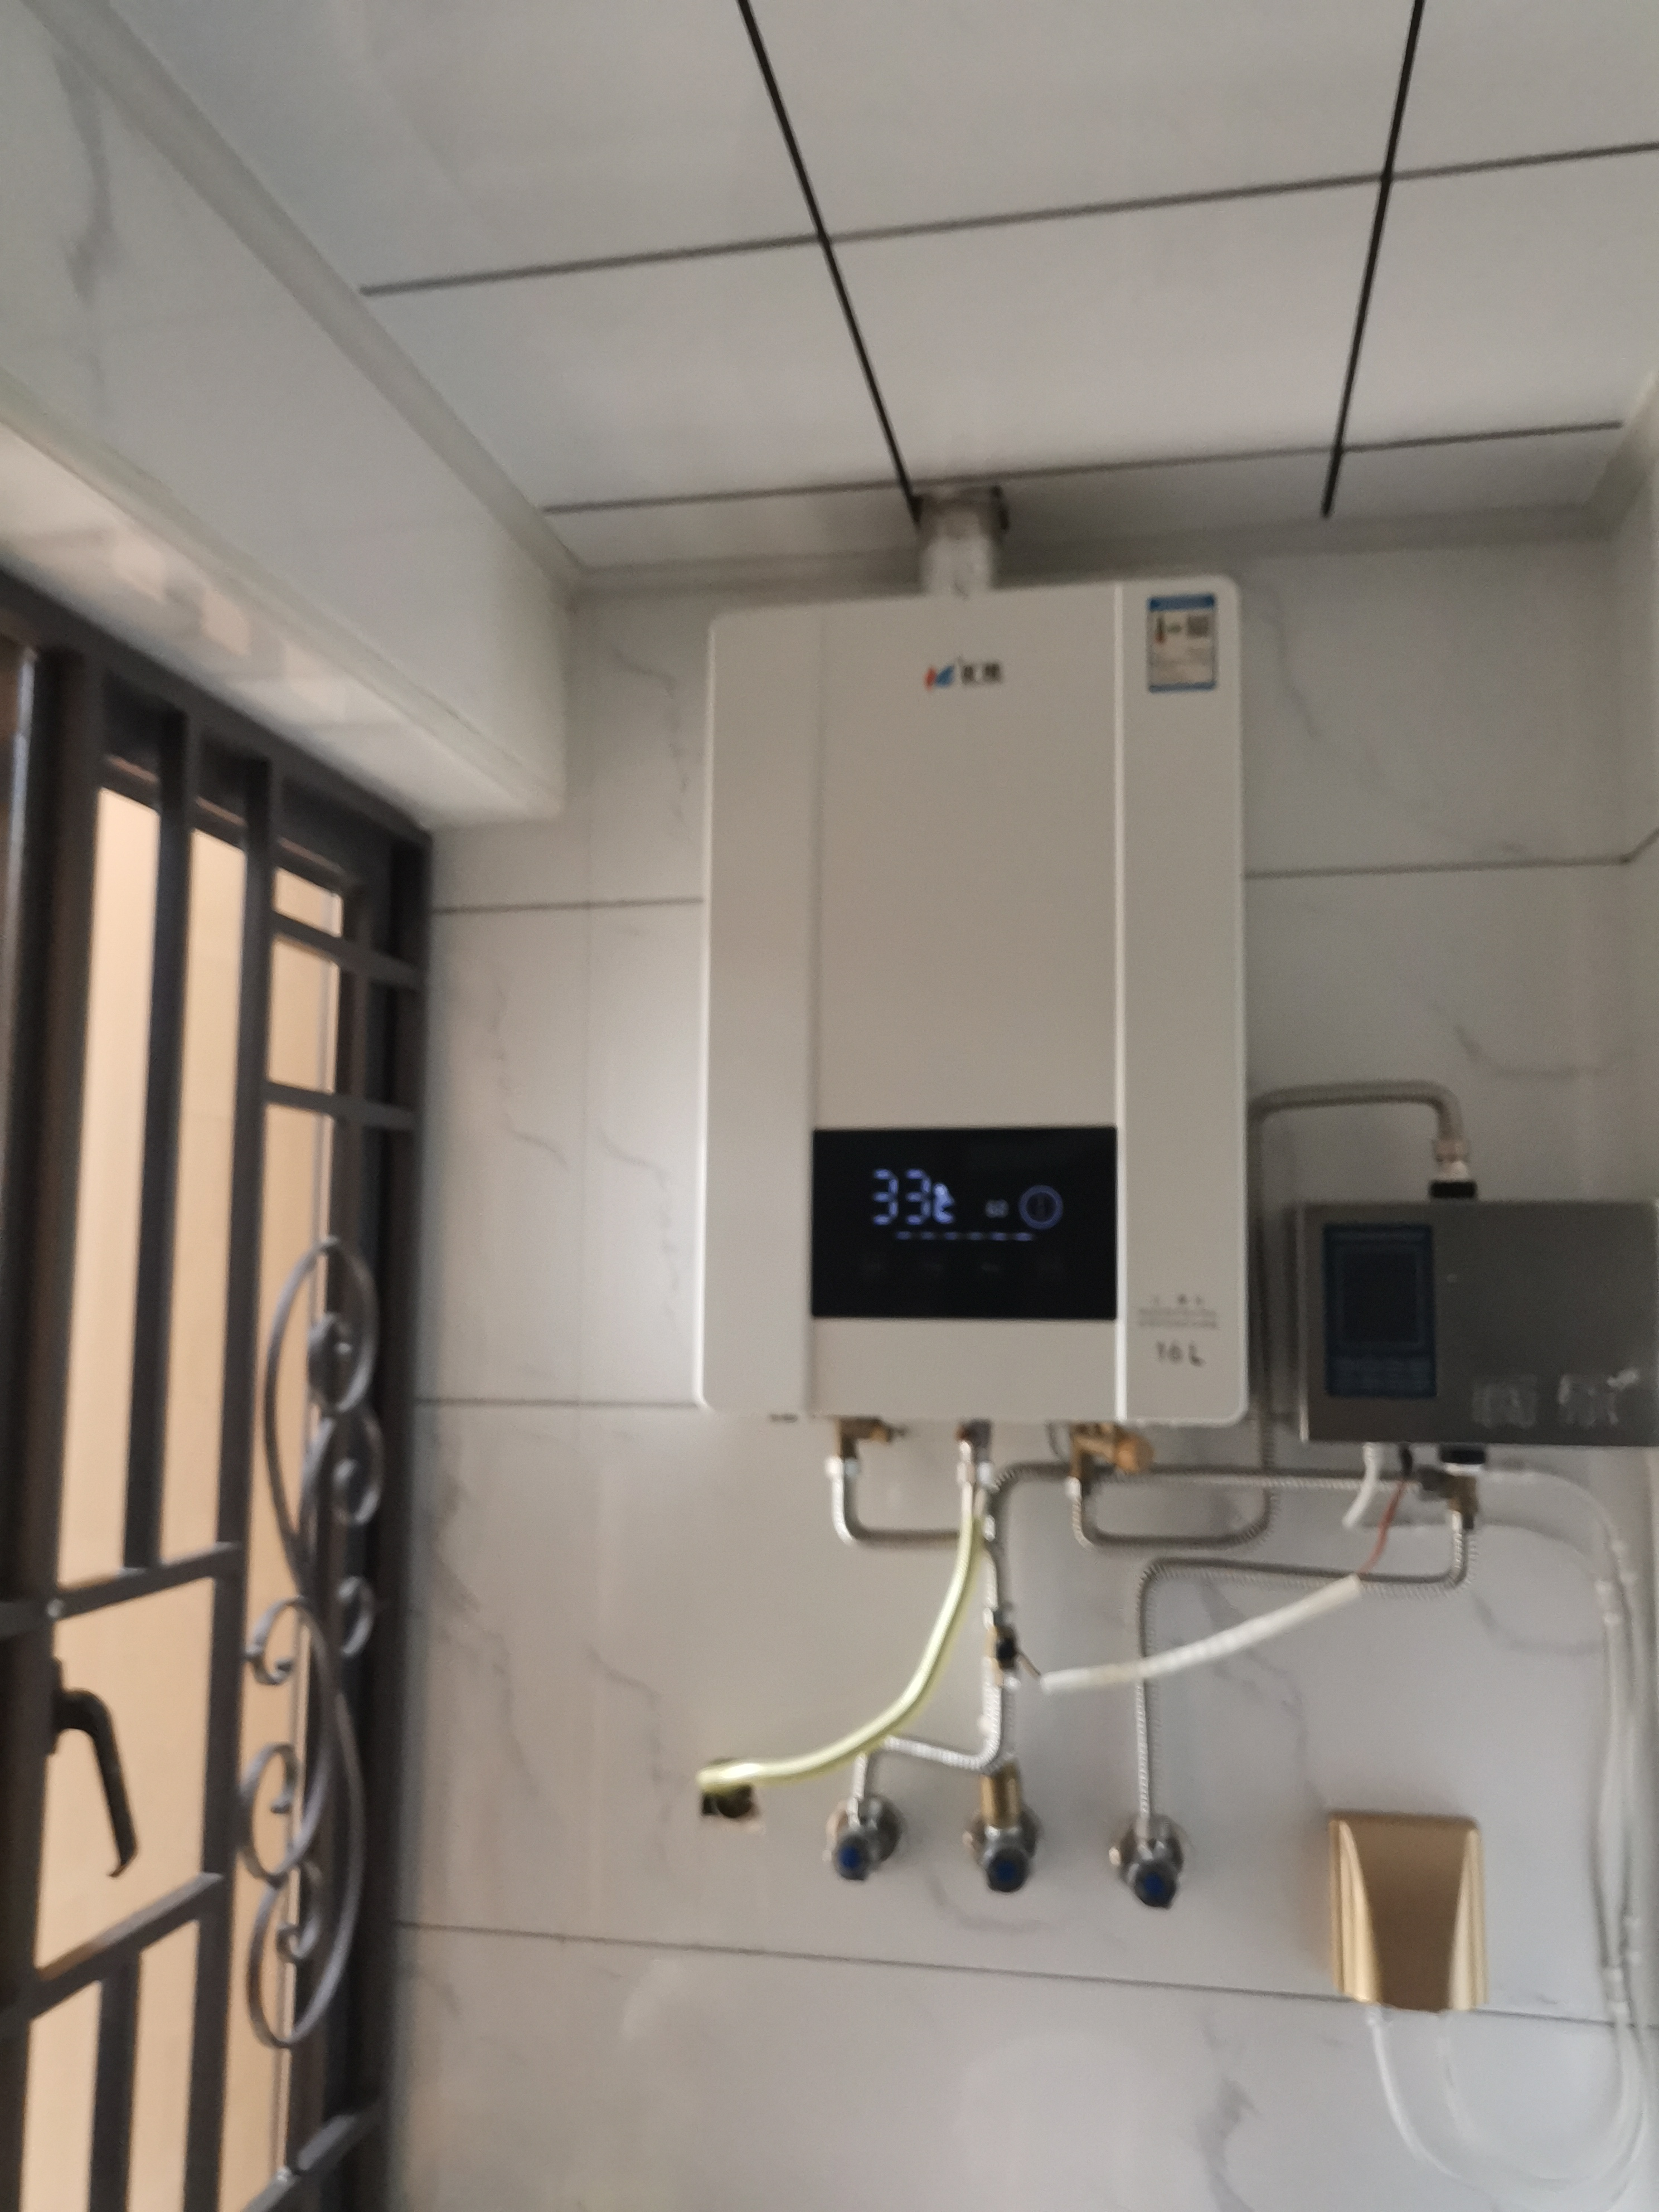loudou: (915, 651, 1023, 700)
